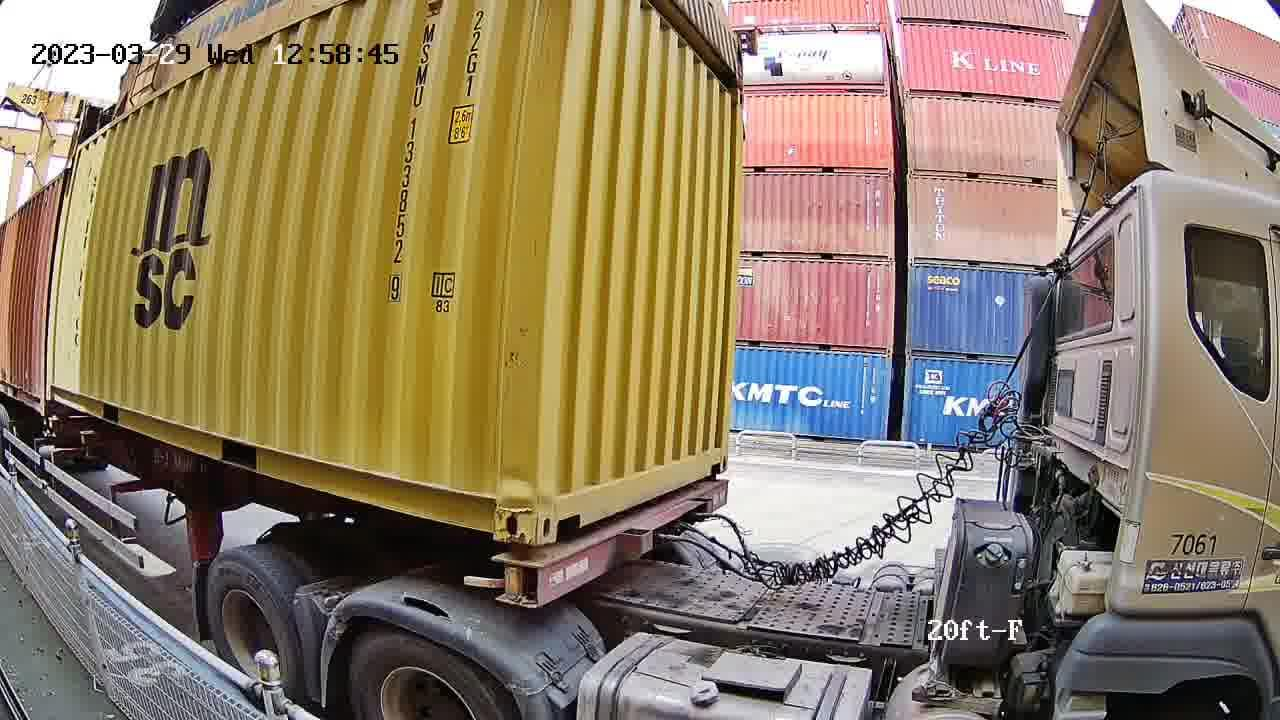Chassis: (489, 480, 727, 609)
Cone: (497, 542, 531, 610)
Hole_L: (534, 464, 586, 545)
Hole_R: (470, 469, 535, 545), (702, 431, 729, 477)
Tire: (205, 553, 301, 709), (344, 634, 505, 719)
